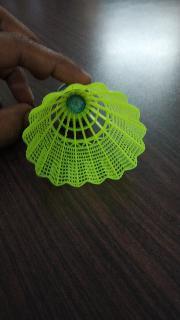shuttlecock: (23, 84, 145, 186)
